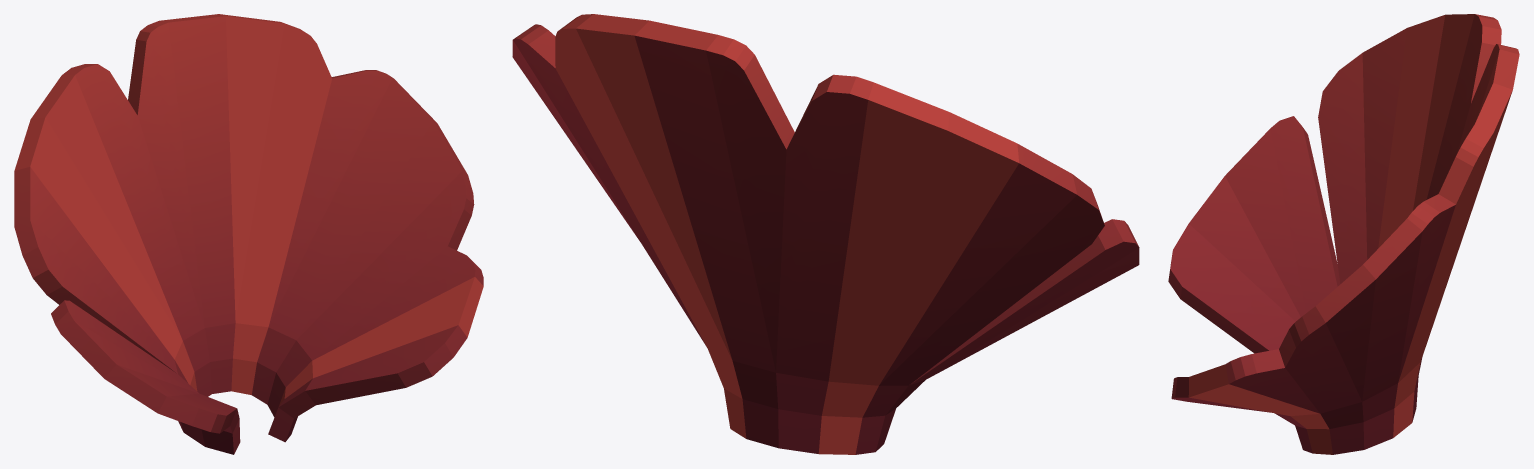
The model's file is coral_peafowl_red_1.fbx.
The picture shows the model from 3 angles, left to right: view 1: azimuth 30°, elevation 25°; view 2: azimuth 150°, elevation 25°; view 3: azimuth 270°, elevation 25°; orthographic projection. The views are drawn at different scales.
Visible parts, largest first — view 1: coral_peafowl_red_1; view 2: coral_peafowl_red_1; view 3: coral_peafowl_red_1.
Boxes of the visible parts, x1,y1,x2,y2 form: coral_peafowl_red_1: (14, 14, 483, 454); coral_peafowl_red_1: (512, 14, 1139, 454); coral_peafowl_red_1: (1168, 14, 1519, 454).
Bounding box in the file's own units: 0.6746 × 0.533 × 0.4381.
